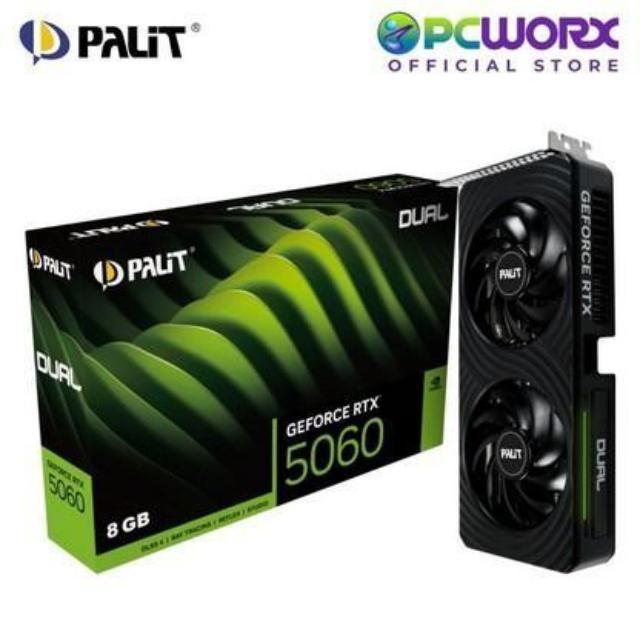GPU: (446, 123, 632, 580)
